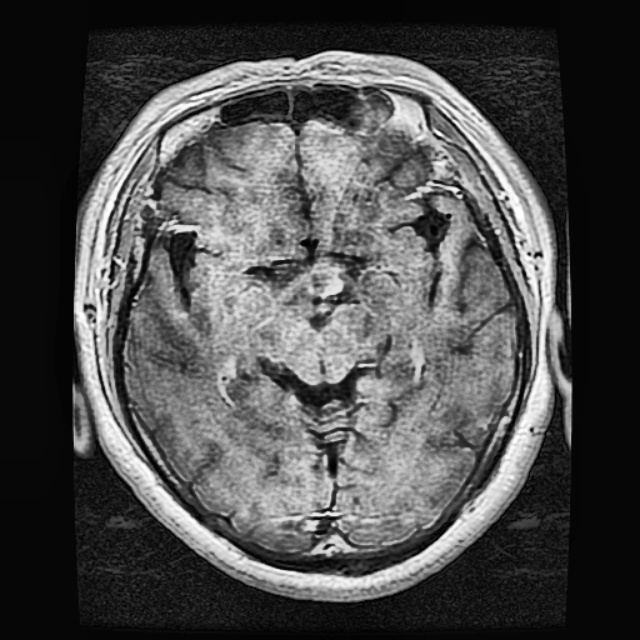Pituitary: (307, 255, 347, 299)
